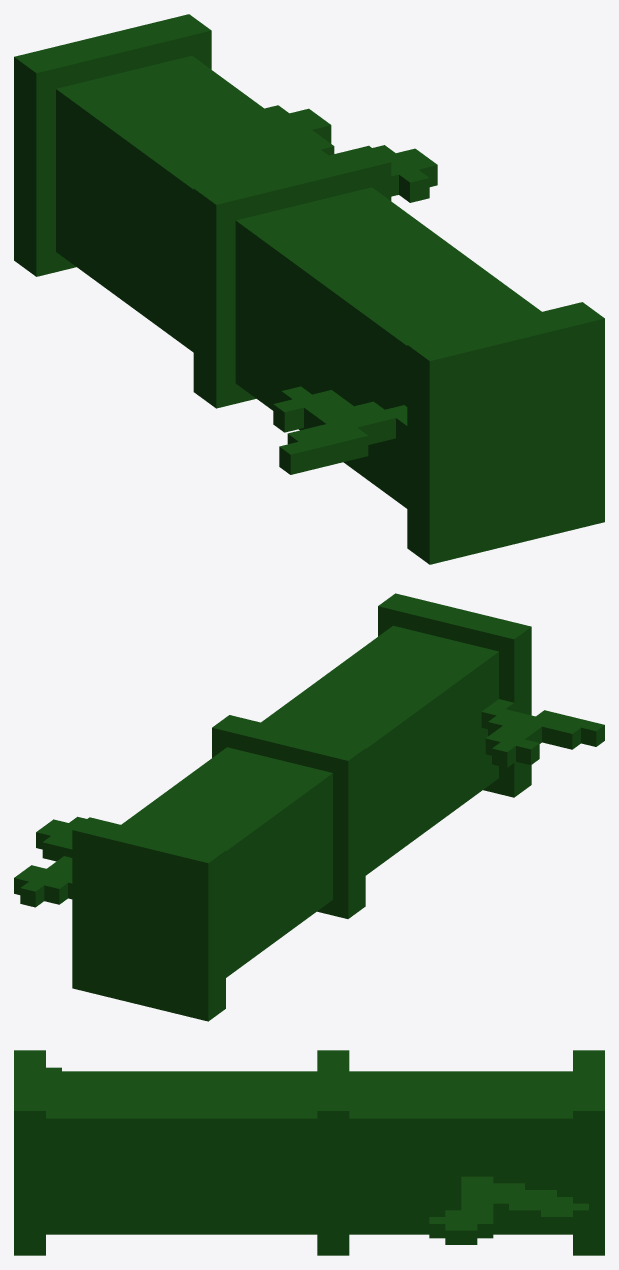
Rendered from bamboo.obj.
3 views of the same model, one above another, from view 1: azimuth 30°, elevation 25°; view 2: azimuth 150°, elevation 25°; view 3: azimuth 270°, elevation 25° (orthographic). The views are drawn at different scales.
Parts seen in each view (by area): view 1: bamboo.001; view 2: bamboo.001; view 3: bamboo.001.
Boxes of the visible parts, bbox=[...] form: bamboo.001: bbox=[14, 14, 604, 564]; bamboo.001: bbox=[14, 593, 604, 1021]; bamboo.001: bbox=[14, 1050, 604, 1255].
Bounding box in the file's own units: 2.2 × 1 × 3.7.
